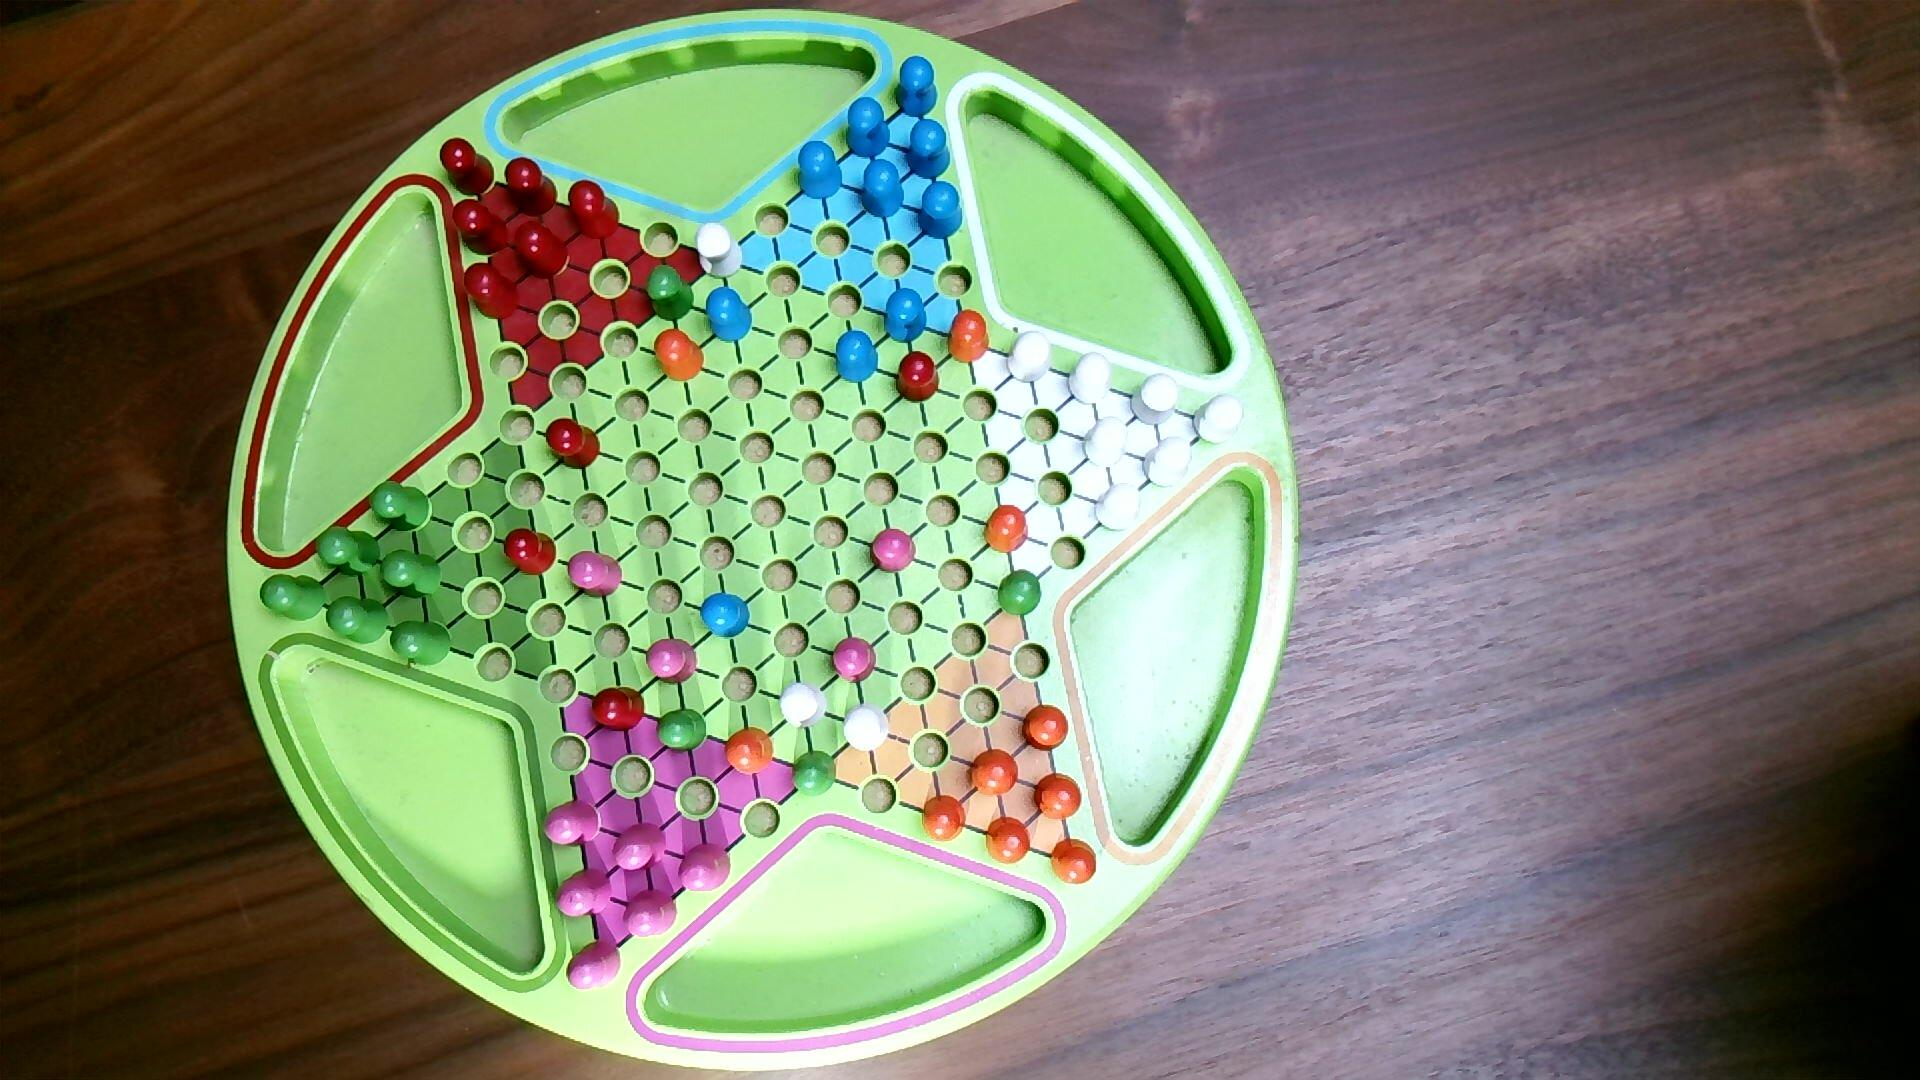B: (916, 179, 965, 243), (906, 117, 953, 181), (845, 95, 891, 160), (894, 55, 940, 120), (796, 140, 844, 202), (860, 158, 906, 222), (705, 286, 754, 345), (833, 328, 881, 386), (884, 287, 930, 345), (699, 592, 752, 641)
G: (258, 571, 328, 624), (316, 525, 382, 580), (368, 480, 433, 534), (326, 593, 392, 646), (378, 549, 444, 601), (644, 264, 698, 324), (389, 618, 454, 669), (655, 707, 709, 756), (790, 749, 839, 799), (997, 567, 1044, 618)
O: (653, 328, 707, 385), (945, 307, 992, 367), (1033, 771, 1084, 823), (723, 727, 775, 777), (969, 748, 1021, 798), (1021, 704, 1071, 756), (982, 502, 1030, 556), (982, 816, 1033, 866), (1050, 837, 1098, 887), (922, 794, 967, 844)
R: (451, 196, 510, 257), (463, 261, 522, 322), (513, 218, 571, 280), (440, 137, 497, 199), (502, 156, 559, 218), (567, 179, 622, 243), (545, 417, 603, 472), (589, 686, 647, 735), (502, 527, 558, 578), (895, 349, 942, 405)
R2: (554, 866, 615, 920), (542, 798, 603, 851), (564, 938, 622, 992), (612, 822, 669, 876), (622, 887, 680, 940), (567, 550, 624, 601), (678, 843, 733, 894), (646, 640, 699, 687), (829, 636, 878, 686), (869, 527, 918, 576)
W: (694, 222, 745, 281), (1193, 392, 1246, 447), (1130, 372, 1182, 429), (1143, 435, 1195, 491), (1095, 481, 1145, 535), (1006, 330, 1055, 385), (1083, 415, 1131, 471), (1068, 351, 1116, 407), (843, 703, 891, 756), (779, 680, 829, 731)
